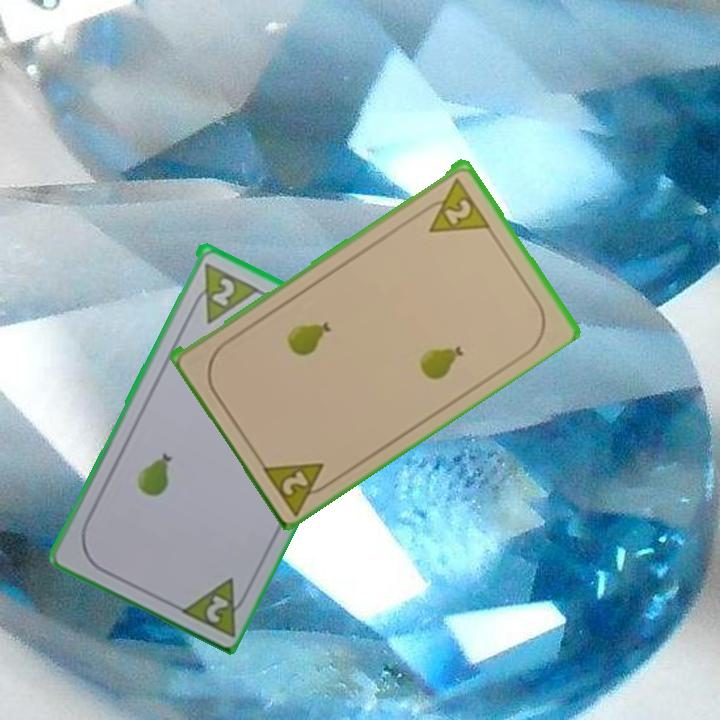2p: (416, 172, 492, 236), (257, 458, 339, 516), (202, 590, 232, 626), (208, 273, 238, 308)
